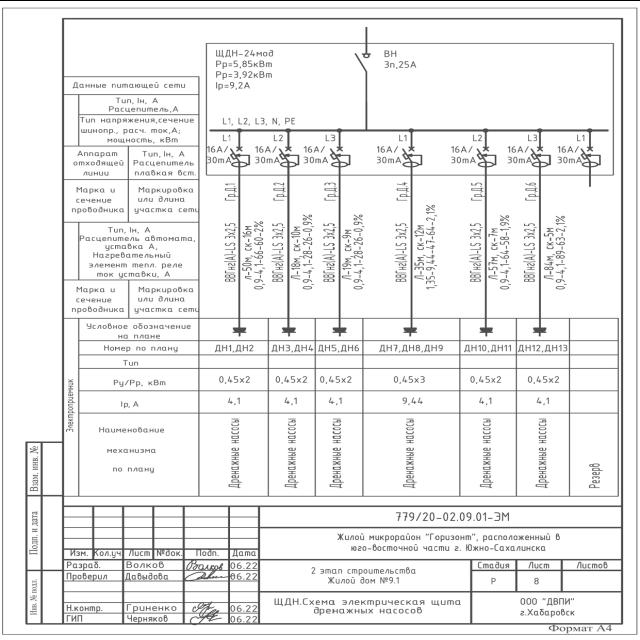-: (379, 48, 422, 68), (213, 46, 276, 56), (253, 144, 280, 164), (556, 144, 582, 164), (302, 144, 328, 164), (376, 144, 402, 164), (506, 144, 532, 164), (206, 144, 232, 164), (451, 144, 476, 164)
QFD: (579, 143, 605, 167), (472, 144, 498, 168), (277, 143, 303, 167), (327, 144, 353, 168), (226, 144, 252, 168), (398, 144, 424, 168), (526, 144, 552, 168)
QS: (354, 50, 374, 74)
